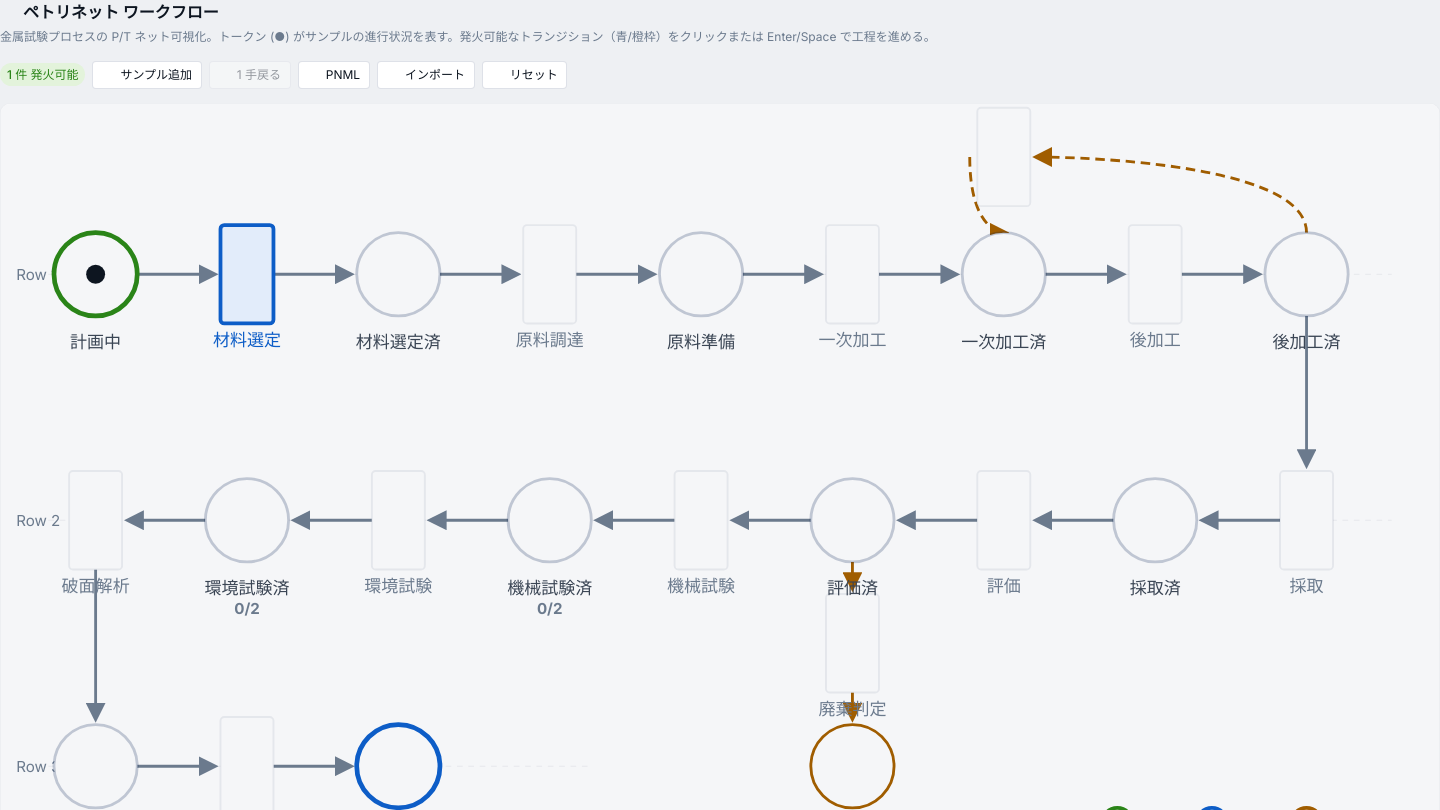
PetriNetPage › PNML ボタンでプレビューモーダルが開き、即ダウンロードしない
This screenshot has width=1440, height=810.
Expected: the heading "PNML エクスポート プレビュー" is not shown
Click the button "PNML". click: [334, 75]
box: x1=298 y1=60 x2=370 y2=89
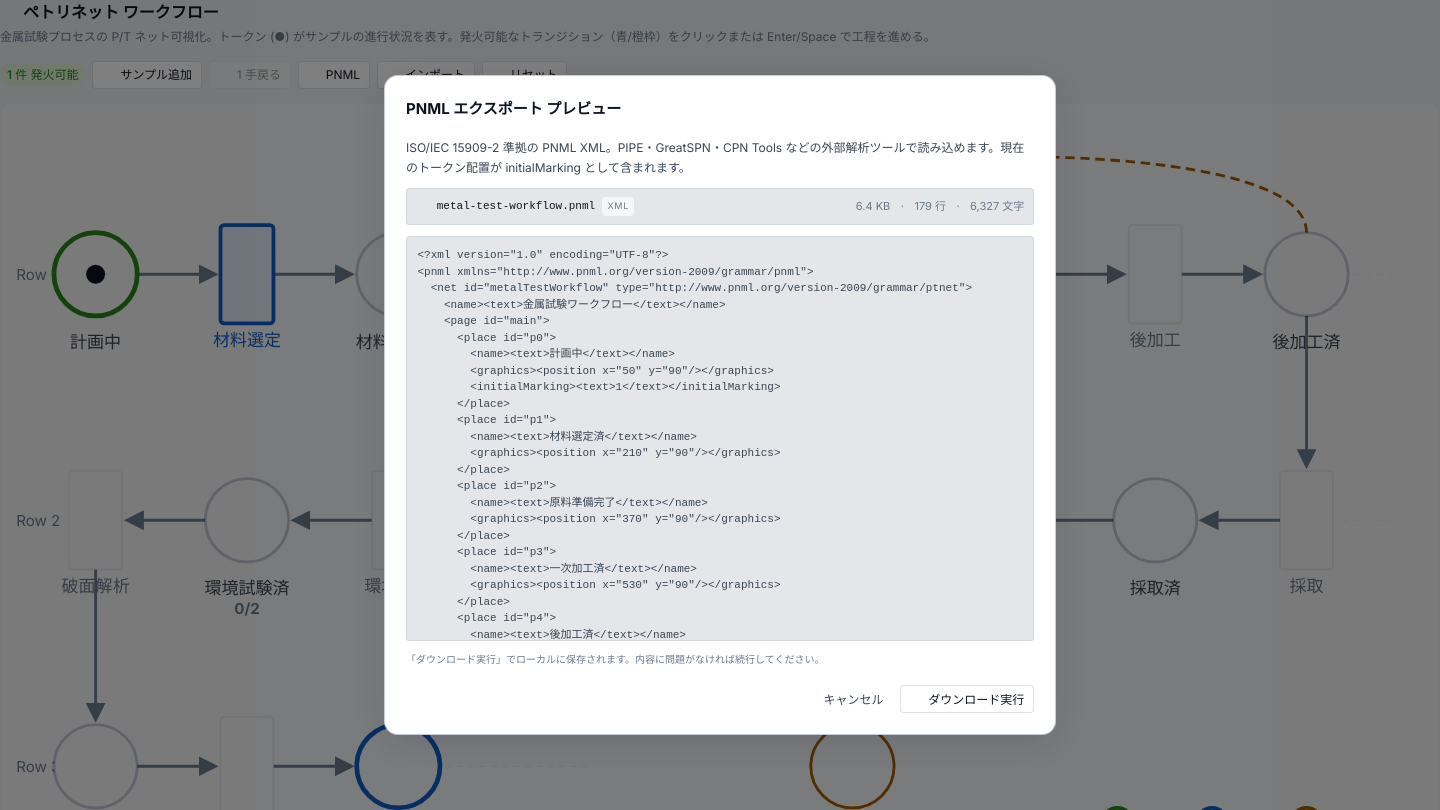
Result: the heading "PNML エクスポート プレビュー" is shown at x1=406 y1=97 x2=621 y2=121
Result: the text "metal-test-workflow.pnml" is shown at x1=437 y1=198 x2=595 y2=216
